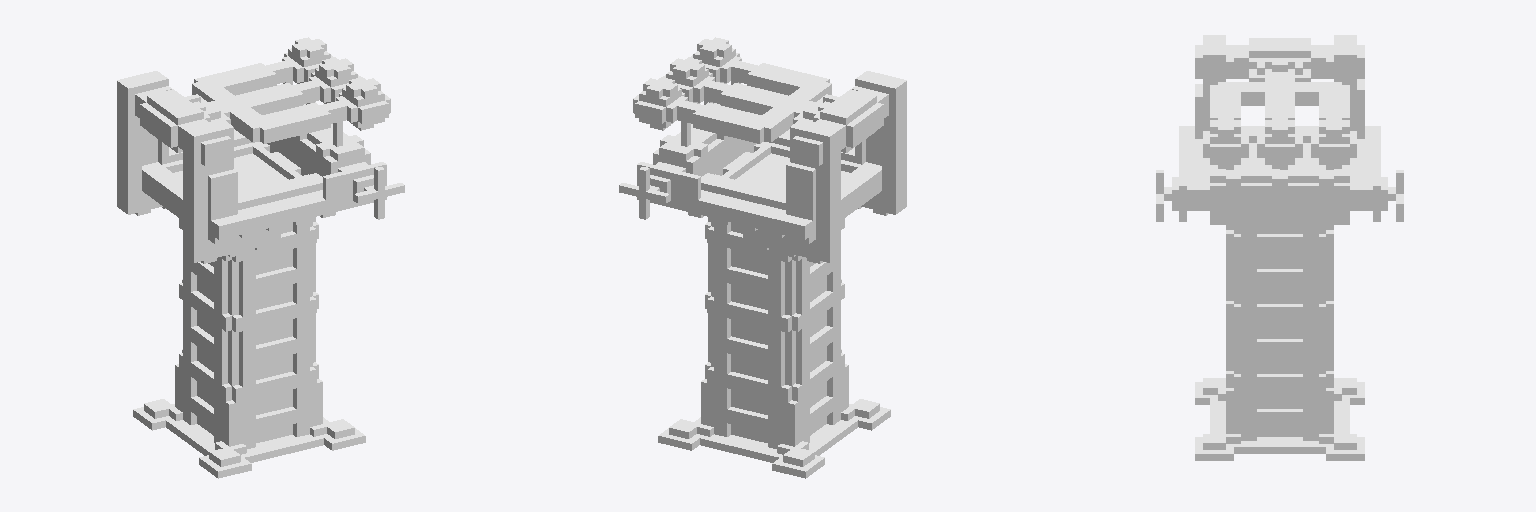
The model's file is catapulta.obj.
The picture shows the model from 3 angles: view 1: azimuth 30°, elevation 25°; view 2: azimuth 150°, elevation 25°; view 3: azimuth 270°, elevation 25°; orthographic projection.
Bounding box in the file's own units: 30 × 49 × 32.